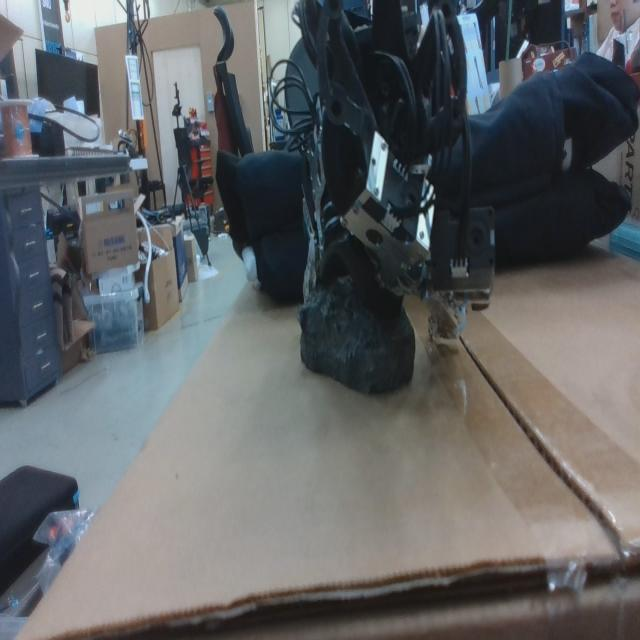stone: (294, 278, 416, 398)
